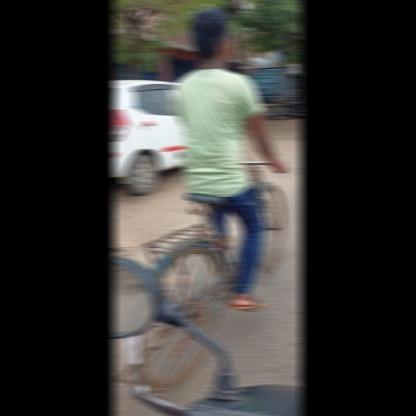Bicycle: (139, 147, 296, 332)
